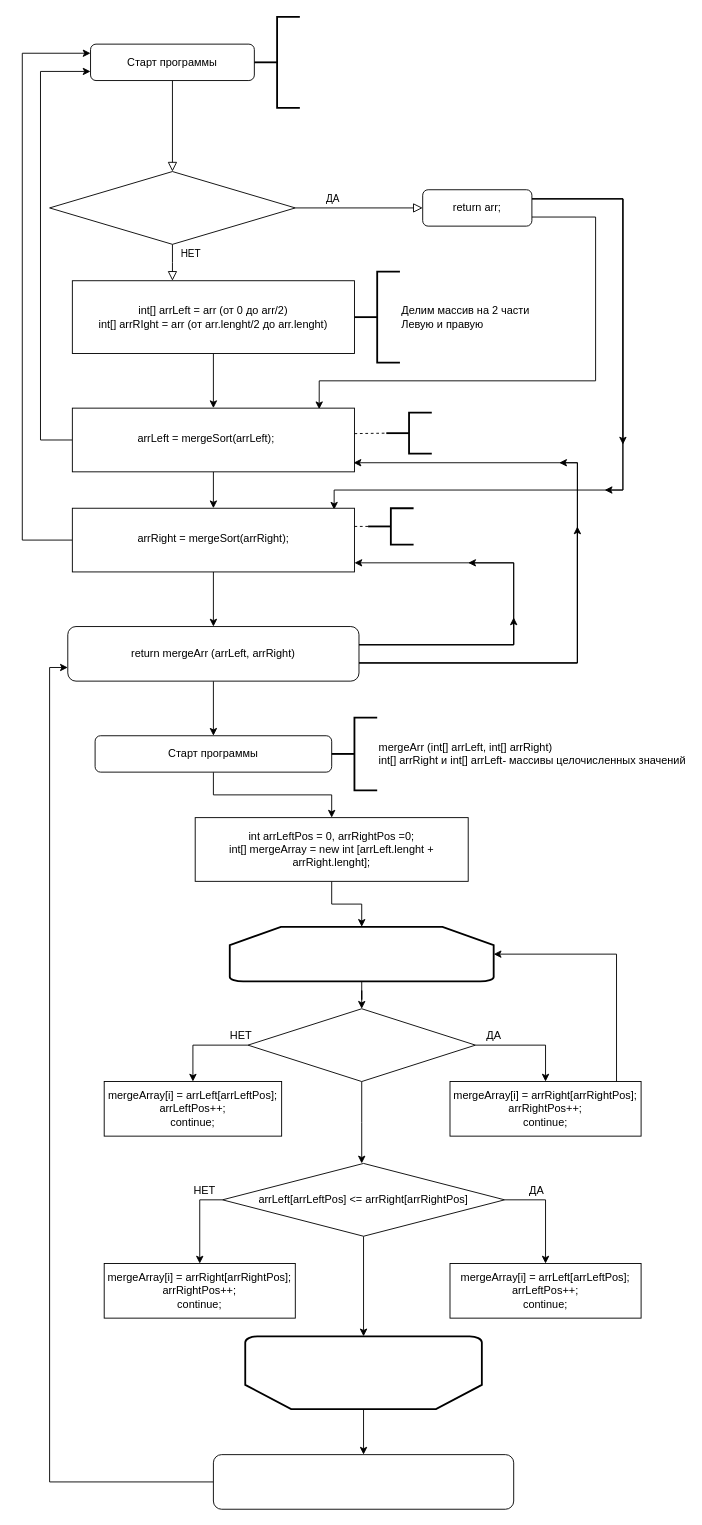
Some shapes in this 702 by 1525 pixel diagram are drawn without their labels. Each missing label, with the box of its shape:
arr.lenght == 1 ?: (49, 171, 295, 244)
arrLeftPos == arrLeft.length ?: (247, 1008, 475, 1082)
i++: (244, 1335, 482, 1410)
int i = 0; i < mergeArray.length: (228, 925, 494, 982)
mergeSort (int[] arr) int[] arr - массив целочисленных значений: (253, 15, 300, 108)
return mergeArray: (212, 1454, 514, 1509)
Вызываем рекурсию для деления второго массива: (367, 507, 414, 545)
Вызываем рекурсию для деления первого массива: (385, 411, 432, 454)
